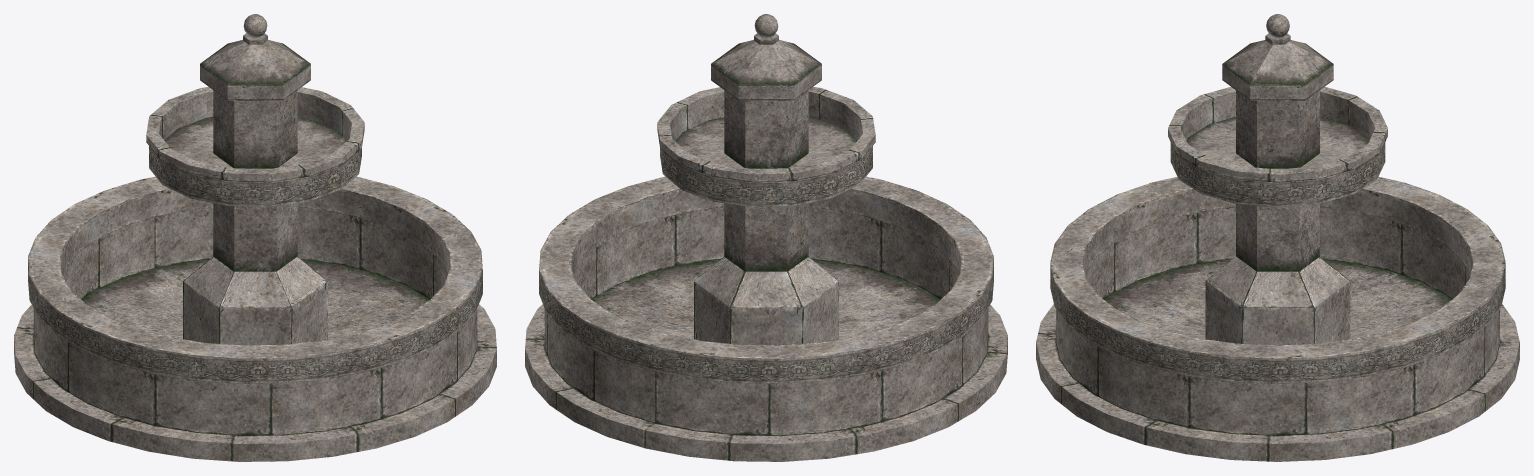
Rendered from Fountain.fbx.
3 renders of one model, left to right at view 1: azimuth 30°, elevation 25°; view 2: azimuth 150°, elevation 25°; view 3: azimuth 270°, elevation 25°, orthographic.
Parts seen in each view (by area): view 1: Fountain; view 2: Fountain; view 3: Fountain.
Boxes of the visible parts, x1,y1,x2,y2 form: Fountain: [14, 14, 496, 461]; Fountain: [525, 14, 1007, 461]; Fountain: [1036, 14, 1519, 461].
Size of the model in its own units: 352 by 277 by 352.
